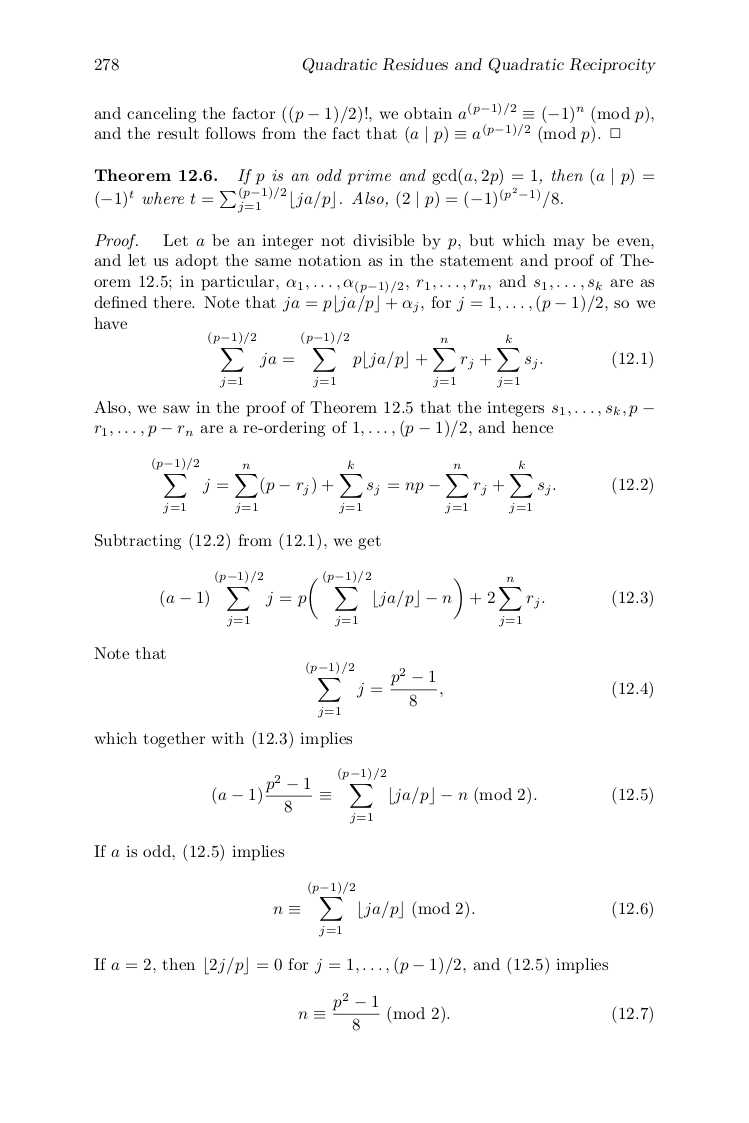formula: (160, 570, 652, 627), (152, 458, 652, 513), (212, 767, 652, 824), (208, 332, 652, 387), (273, 882, 652, 936), (306, 661, 652, 718), (298, 992, 652, 1031)
